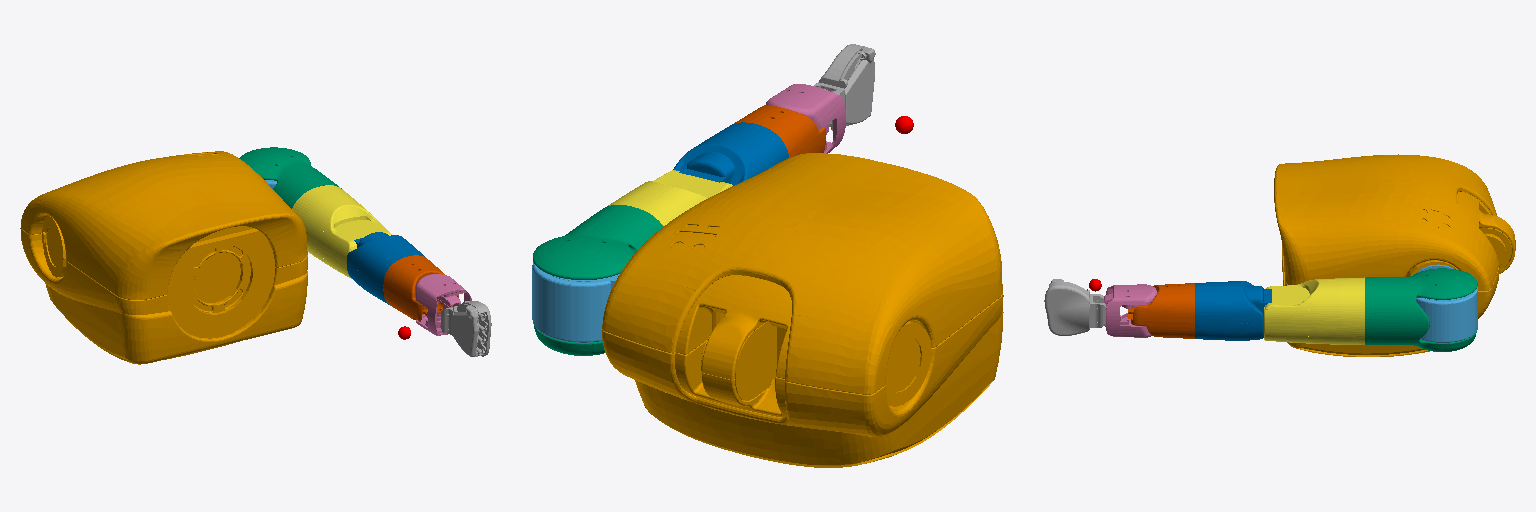
URDF robot description (friday):
<robot name="friday">
  <link name="waist_5">
    <inertial>
      <origin xyz="1.35732334303223E-05 0.135898614953202 -0.0188496042510568" rpy="0 0 0" />
      <mass value="12.474122580364" />
      <inertia ixx="0.109178941754524" ixy="-2.98129835492946E-05" ixz="-3.19150484404308E-06" iyy="0.107169406583023" iyz="-0.00214461668880564" izz="0.157827782829379" />
    </inertial>
    <visual>
      <origin xyz="0 0 0" rpy="0 0 0" />
      <geometry>
        <mesh filename="../meshes/friday/visual/body.obj" />
      </geometry>
    </visual>
    <visual>
      <origin xyz="0 -0.006322245945349 0" rpy="0 0 0" />
      <geometry>
        <mesh filename="../meshes/friday/visual/body_backpack.obj" />
      </geometry>
    </visual>
    <visual>
      <origin xyz="0 0.194843979673063 0" rpy="0 0 0" />
      <geometry>
        <mesh filename="../meshes/friday/visual/body_logo.obj" />
      </geometry>
    </visual>
    <collision>
      <origin xyz="0 0 0" rpy="0 0 0" />
      <geometry>
        <mesh filename="../meshes/friday/collision/compact_waist_5.obj" />
      </geometry>
    </collision>
  </link>
  <link name="left_arm_1">
    <inertial>
      <origin xyz="0.0681778315832787 0.0120221796894002 -0.0067812975431665" rpy="0 0 0" />
      <mass value="0.65274639829115" />
      <inertia ixx="0.000734648467001504" ixy="-3.62701010648506E-05" ixz="3.85551694833418E-05" iyy="0.000933899014758635" iyz="6.8080075629328E-06" izz="0.000897118604744115" />
    </inertial>
    <visual>
      <origin xyz="0 0 0" rpy="0 0 0" />
      <geometry>
        <mesh filename="../meshes/friday/visual/left_arm_1.obj" />
      </geometry>
    </visual>
  </link>
  <joint name="left_arm_1" type="revolute">
    <origin xyz="0.154235438602375 0.228025515459258 0" rpy="0 0 0" />
    <parent link="waist_5" />
    <child link="left_arm_1" />
    <axis xyz="-0.984807753012208 -0.173648177666932 0" />
    <limit effort="87.0" lower="-0.4236" upper="2.5180" velocity="2.0" />
  </joint>
  <link name="left_arm_2">
    <inertial>
      <origin xyz="0.00876610230499331 -0.0838600339221796 -0.000115821686215815" rpy="0 0 0" />
      <mass value="0.552470086721825" />
      <inertia ixx="0.000518419495011146" ixy="8.92509610843467E-06" ixz="-1.59111934775713E-06" iyy="0.00045867874968829" iyz="8.16013558251578E-06" izz="0.000543758567127829" />
    </inertial>
    <visual>
      <origin xyz="0 0 0" rpy="0 0 0" />
      <geometry>
        <mesh filename="../meshes/friday/visual/left_arm_2.obj" />
      </geometry>
    </visual>
    <collision>
      <origin xyz="0 0 0" rpy="0 0 0" />
      <geometry>
        <mesh filename="../meshes/friday/collision/compact_left_arm_2.obj" />
      </geometry>
    </collision>
  </link>
  <joint name="left_arm_2" type="revolute">
    <origin xyz="0.076891144603957 0.0135579833712227 0" rpy="0 0 0" />
    <parent link="left_arm_1" />
    <child link="left_arm_2" />
    <axis xyz="0 0 1" />
    <limit effort="87.0" lower="0.0" upper="2.2562" velocity="2.0" />
  </joint>
  <link name="left_arm_3">
    <inertial>
      <origin xyz="0.000140505415812536 -0.0647204132155317 -0.00150532371572329" rpy="0 0 0" />
      <mass value="0.641686932437179" />
      <inertia ixx="0.00131223395207345" ixy="5.88564128440786E-06" ixz="-1.35288724944641E-06" iyy="0.000496471588137728" iyz="-3.56318015097049E-05" izz="0.00132692863229049" />
    </inertial>
    <visual>
      <origin xyz="0 0 0" rpy="0 0 0" />
      <geometry>
        <mesh filename="../meshes/friday/visual/left_arm_3.obj" />
      </geometry>
    </visual>
    <collision>
      <origin xyz="0 -0.1 0.0" rpy="0 0 0" />
      <geometry>
				<box size="0.065 0.08 0.06" />
			</geometry>
    </collision>
  </link>
  <joint name="left_arm_3" type="revolute">
    <origin xyz="0.0100000000000251 -0.136500000000012 0" rpy="0 0 0" />
    <parent link="left_arm_2" />
    <child link="left_arm_3" />
    <axis xyz="0 1 0" />
    <limit effort="87.0" lower="-1.4708" upper="1.4708" velocity="2.0" />
  </joint>
  <link name="left_arm_4">
    <inertial>
      <origin xyz="-3.35287353436797E-14 -0.0459525747799207 -0.0136740346354466" rpy="0 0 0" />
      <mass value="0.467228497737904" />
      <inertia ixx="0.000771988413929587" ixy="1.77253719440116E-17" ixz="-1.0656151900853E-11" iyy="0.000278940154315871" iyz="4.81484142200182E-06" izz="0.000775309381777704" />
    </inertial>
    <visual>
      <origin xyz="0 0 0" rpy="0 0 0" />
      <geometry>
        <mesh filename="../meshes/friday/visual/left_arm_4.obj" />
      </geometry>
    </visual>
    <collision>
      <origin xyz="0 0 0" rpy="0 0 0" />
      <geometry>
        <mesh filename="../meshes/friday/collision/compact_left_arm_4.obj" />
      </geometry>
    </collision>
  </link>
  <joint name="left_arm_4" type="revolute">
    <origin xyz="0 -0.129999999999999 0.013499999998509" rpy="0 0 0" />
    <parent link="left_arm_3" />
    <child link="left_arm_4" />
    <axis xyz="-1 0 0" />
    <limit effort="87.0" lower="0.0" upper="2.1689" velocity="2.0" />
  </joint>
  <link name="left_arm_5">
    <inertial>
      <origin xyz="5.77929163333712E-05 -2.10908777993994E-05 0.0303745916212222" rpy="0 0 0" />
      <mass value="0.141645120451258" />
      <inertia ixx="0.000150674876659959" ixy="-9.98797795493656E-06" ixz="-9.93466740338049E-08" iyy="0.00015148916195091" iyz="8.09491425900871E-08" izz="7.9377319772219E-05" />
    </inertial>
    <visual>
      <origin xyz="0 0 0" rpy="0 0 0" />
      <geometry>
        <mesh filename="../meshes/friday/visual/left_arm_5.obj" />
      </geometry>
    </visual>
    <collision>
      <origin xyz="0 0 0" rpy="0 0 0" />
      <geometry>
        <mesh filename="../meshes/friday/collision/compact_left_arm_5.obj" />
      </geometry>
    </collision>
  </link>
  <joint name="left_arm_5" type="revolute">
    <origin xyz="0 -0.102599999999996 -0.013499999998509" rpy="1.5707963267949 0 0" />
    <parent link="left_arm_4" />
    <child link="left_arm_5" />
    <axis xyz="0 0 -1" />
    <limit effort="87.0" lower="-1.4708" upper="1.4708" velocity="2.0" />
  </joint>
  <link name="left_arm_6">
    <inertial>
      <origin xyz="-8.14545597854766E-05 7.51009215384403E-05 0.0117608666205666" rpy="0 0 0" />
      <mass value="0.0314621801352106" />
      <inertia ixx="7.82929735327746E-06" ixy="1.1061250640138E-08" ixz="1.46345904053749E-08" iyy="8.7132179616215E-06" iyz="-7.15856215622018E-09" izz="7.73497403513724E-06" />
    </inertial>
    <visual>
      <origin xyz="0 0 0" rpy="0 0 0" />
      <geometry>
        <mesh filename="../meshes/friday/visual/left_arm_6.obj" />
      </geometry>
    </visual>
  </link>
  <joint name="left_arm_6" type="revolute">
    <origin xyz="0 0 0.111999999999982" rpy="0 0 0" />
    <parent link="left_arm_5" />
    <child link="left_arm_6" />
    <axis xyz="0 1 0" />
    <limit effort="87.0" lower="-0.9472" upper="0.9472" velocity="2.0" />
  </joint>
  <link name="left_arm_7">
    <inertial>
      <origin xyz="0.0015564769305858 0.0031171837162328 -0.0509003091661051" rpy="0 0 0" />
      <mass value="0.131752288131971" />
      <inertia ixx="7.77640623933446E-05" ixy="-8.79352768144738E-07" ixz="-8.87560258478892E-07" iyy="3.25935847362588E-05" iyz="6.93151713655908E-06" izz="5.59108691824527E-05" />
    </inertial>
    <visual>
      <origin xyz="0 0 0" rpy="0 0 0" />
      <geometry>
        <mesh filename="../meshes/friday/visual/left_arm_7.obj" />
      </geometry>
    </visual>
    <collision>
      <origin xyz="0 0 0" rpy="0 0 0" />
      <geometry>
        <mesh filename="../meshes/friday/collision/compact_left_arm_7.obj" />
      </geometry>
    </collision>
  </link>
  <joint name="left_arm_7" type="revolute">
    <origin xyz="0 0 0.040000000000001" rpy="3.14159265358979 0 3.14159265358979" />
    <parent link="left_arm_6" />
    <child link="left_arm_7" />
    <axis xyz="1 0 0" />
    <limit effort="87.0" lower="-0.6854" upper="0.6854" velocity="2.0" />
  </joint>
  <link name="ball_link">
      <visual>
      <material name="red">
          <color rgba="1 0 0 1"/>
      </material>

      <geometry>
          <sphere radius="0.01"/>
      </geometry>
      </visual>
  </link>
  <joint name="ball_joint" type="fixed">
      <origin rpy="0.0 0.0 0.0" xyz="0.09566 0 -0.021" />
      <parent link="left_arm_7"/>
      <child link="ball_link"/>
  </joint>
</robot>

--- What the picture shows (computed from the rendered views, not written in the file) ---
3 views of the same robot in one strip: view 1: azimuth 30°, elevation 25°; view 2: azimuth 150°, elevation 25°; view 3: azimuth 270°, elevation 25° (orthographic).
Robot: friday — 9 links, 8 joints (7 revolute, 1 fixed); root link waist_5; default pose: all joints at 0.
Links seen in each view (by area): view 1: waist_5, left_arm_3, left_arm_2, left_arm_4, left_arm_5, left_arm_7, left_arm_6; view 2: waist_5, left_arm_2, left_arm_1, left_arm_4, left_arm_3, left_arm_7, left_arm_6, left_arm_5; view 3: waist_5, left_arm_3, left_arm_2, left_arm_4, left_arm_5, left_arm_7, left_arm_1, left_arm_6.
Link boxes in pixels (bbox=[...]): waist_5: bbox=[20, 151, 307, 364]; left_arm_3: bbox=[292, 185, 391, 278]; left_arm_2: bbox=[239, 147, 341, 208]; left_arm_4: bbox=[347, 232, 424, 304]; left_arm_5: bbox=[383, 255, 458, 321]; left_arm_7: bbox=[441, 301, 491, 356]; left_arm_6: bbox=[415, 274, 471, 335]; waist_5: bbox=[602, 153, 1003, 467]; left_arm_2: bbox=[533, 205, 663, 355]; left_arm_1: bbox=[532, 262, 619, 342]; left_arm_4: bbox=[673, 122, 788, 185]; left_arm_3: bbox=[608, 170, 732, 225]; left_arm_7: bbox=[814, 44, 875, 130]; left_arm_6: bbox=[766, 84, 845, 153]; left_arm_5: bbox=[734, 105, 825, 157]; waist_5: bbox=[1274, 154, 1515, 356]; left_arm_3: bbox=[1264, 277, 1364, 344]; left_arm_2: bbox=[1365, 268, 1477, 351]; left_arm_4: bbox=[1195, 281, 1271, 340]; left_arm_5: bbox=[1128, 283, 1194, 338]; left_arm_7: bbox=[1044, 279, 1106, 335]; left_arm_1: bbox=[1416, 264, 1477, 342]; left_arm_6: bbox=[1104, 284, 1157, 337].
Bounding box of the posed robot: 0.4648 × 0.7348 × 0.2624 m (x, y, z).
Meshes: 10 distinct files referenced, 10 mesh visuals loaded (10 OBJ).